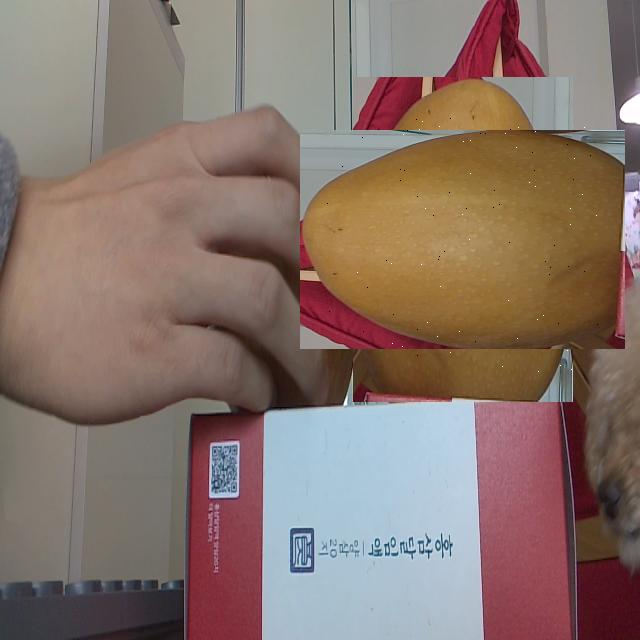pear: (327, 103, 599, 376)
